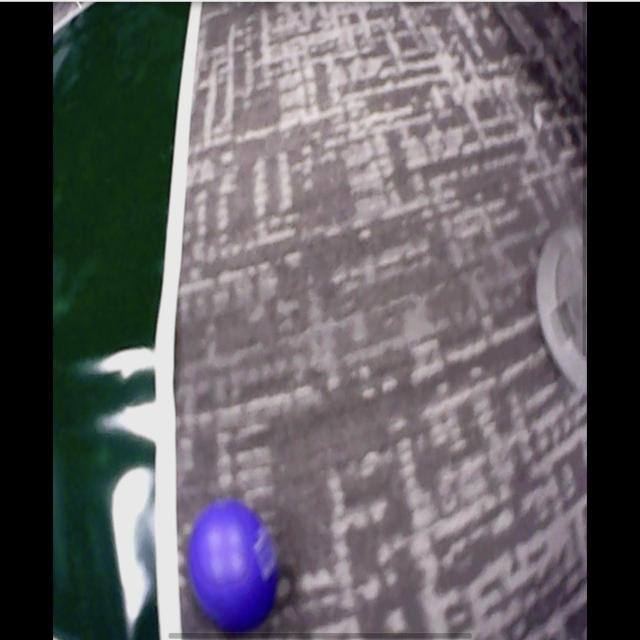ball: (192, 501, 281, 632)
